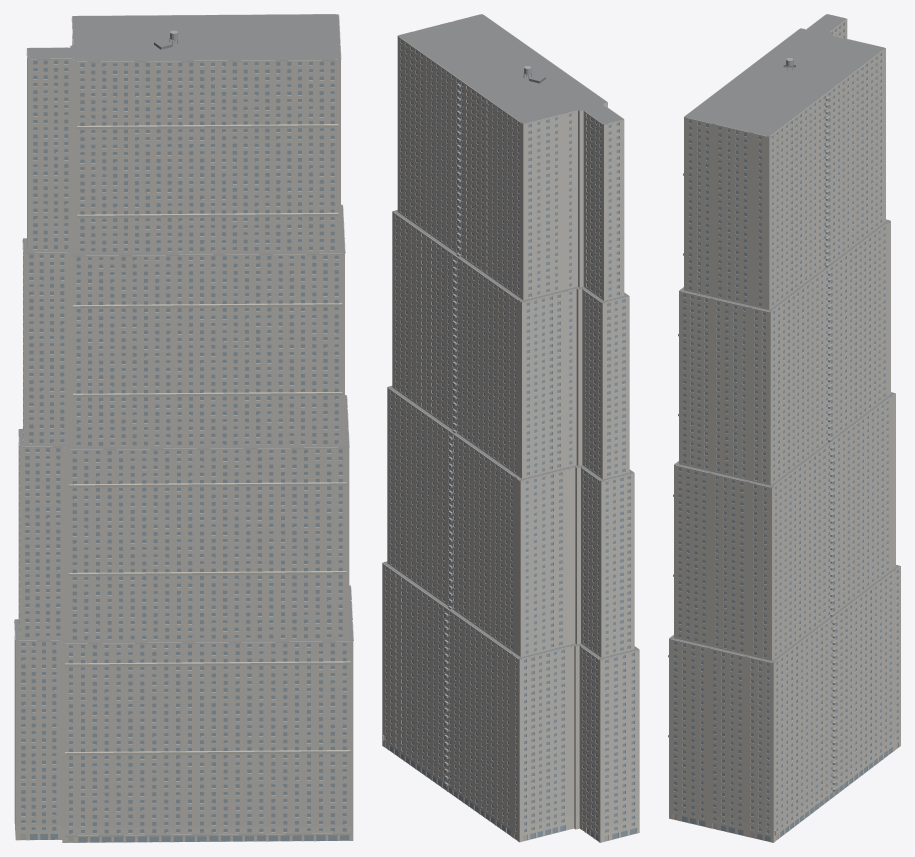
Rendered from doitt-778052__lod_0.glb.
The picture shows the model from 3 angles, left to right: view 1: azimuth 30°, elevation 25°; view 2: azimuth 150°, elevation 25°; view 3: azimuth 270°, elevation 25°; orthographic projection. The views are drawn at different scales.
Bounding box in the file's own units: 157 × 383 × 114.
